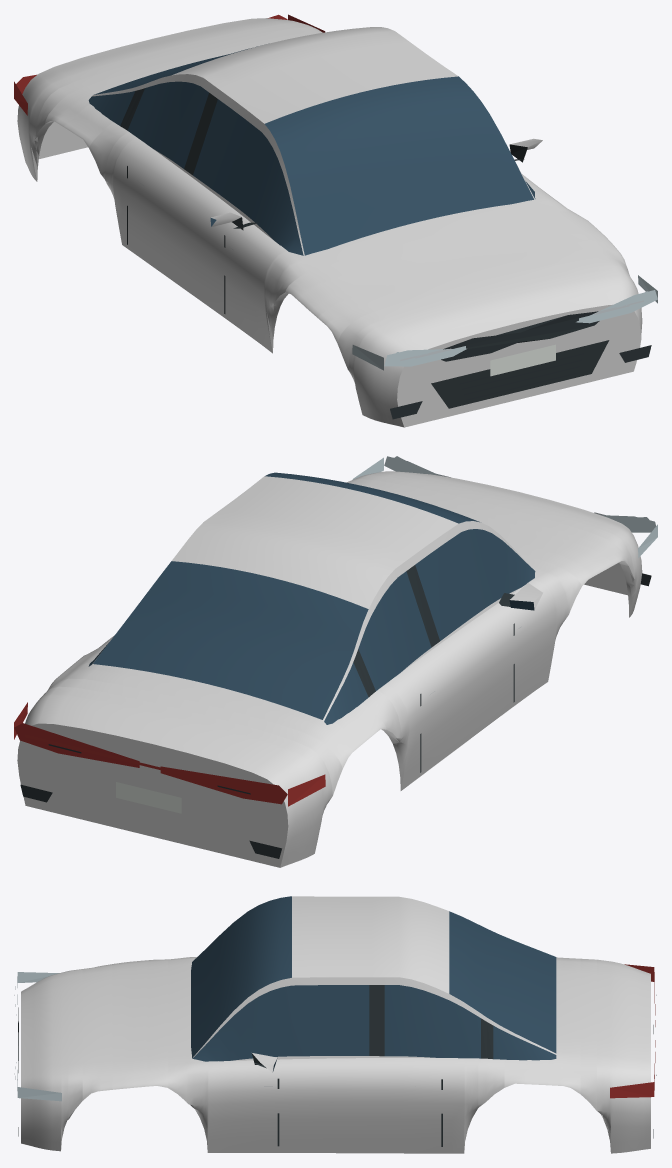
Rendered from veh_k3-lod0.glb.
The picture shows the model from 3 angles, top to bottom: view 1: azimuth 30°, elevation 25°; view 2: azimuth 150°, elevation 25°; view 3: azimuth 270°, elevation 25°; orthographic projection. The views are drawn at different scales.
Visible parts, largest first — view 1: paint, glass, trim, head, plate; view 2: paint, glass, tail, trim, head, plate; view 3: paint, glass, trim, tail, head.
Part boxes in pixels (x1,y1,x2,y2): paint: (17,18,642,427); glass: (88,46,535,255); trim: (120,88,651,419); head: (352,275,657,370); plate: (490,344,555,376); paint: (17,471,642,867); glass: (88,472,535,724); tail: (14,702,325,806); trim: (20,565,651,858); head: (352,456,657,557); plate: (116,782,181,813); paint: (21,896,650,1153); glass: (191,896,556,1071); trim: (18,985,656,1146); tail: (610,964,655,1098); head: (15,972,61,1101).
Bounding box in the file's own units: 1.5 × 0.845 × 2.98.
